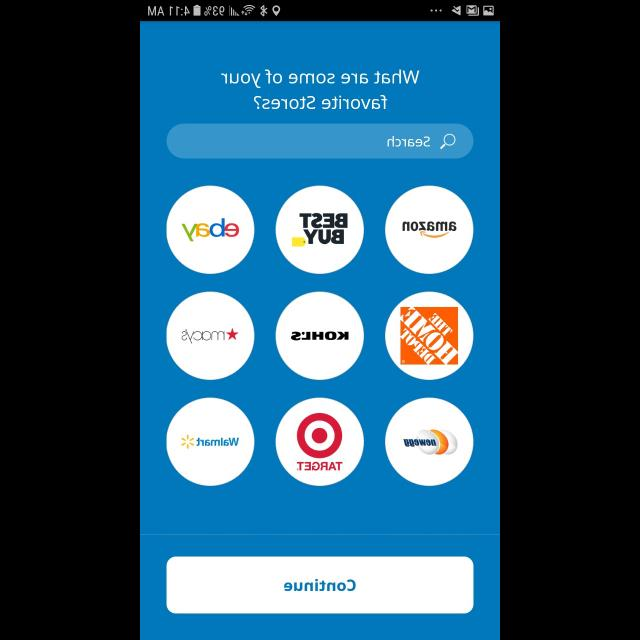icon: (439, 134, 455, 150)
image: (384, 292, 474, 381), (384, 398, 474, 487), (384, 186, 474, 274), (276, 292, 364, 381), (166, 292, 254, 381), (276, 398, 364, 487), (166, 398, 254, 487), (276, 186, 364, 274), (166, 186, 254, 274)
input: (166, 124, 474, 158)
text: (220, 70, 420, 110), (386, 136, 429, 148)
textbutton: (166, 556, 474, 614)
uppertaskbar: (140, 1, 500, 22)
